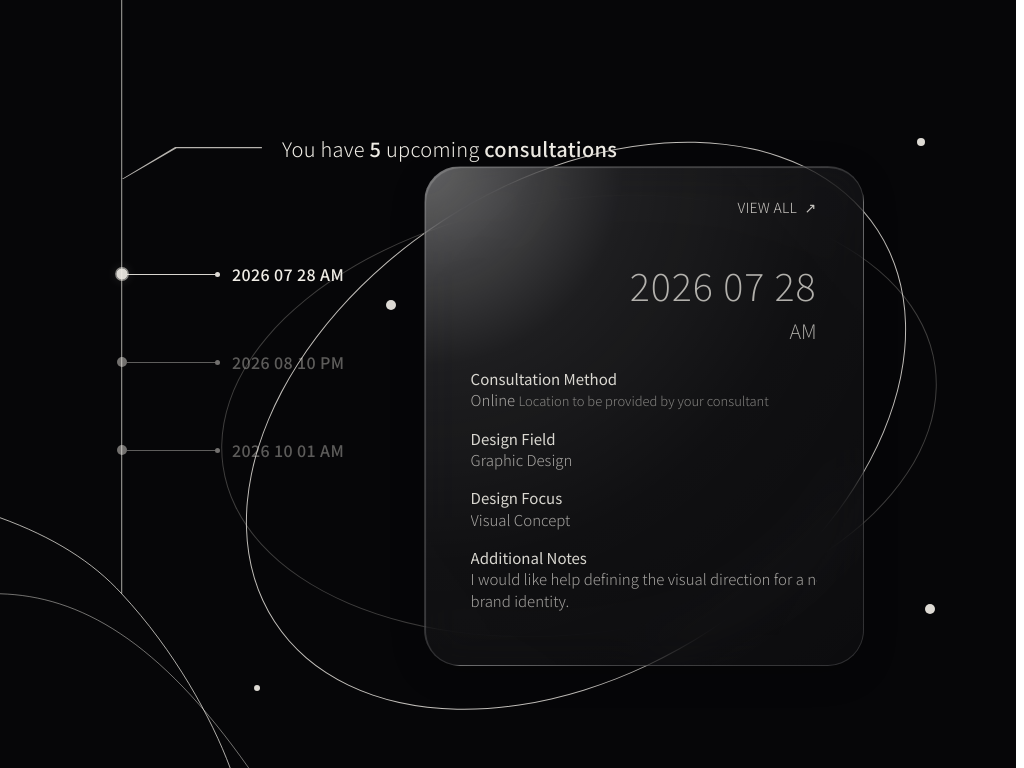
Test: AccountConsultations › toggles the complete consultation list without rendering notes
The width and height of the screenshot is (1024, 768).
Click the button "View all ↗": point(777, 208) [738, 197, 817, 218]
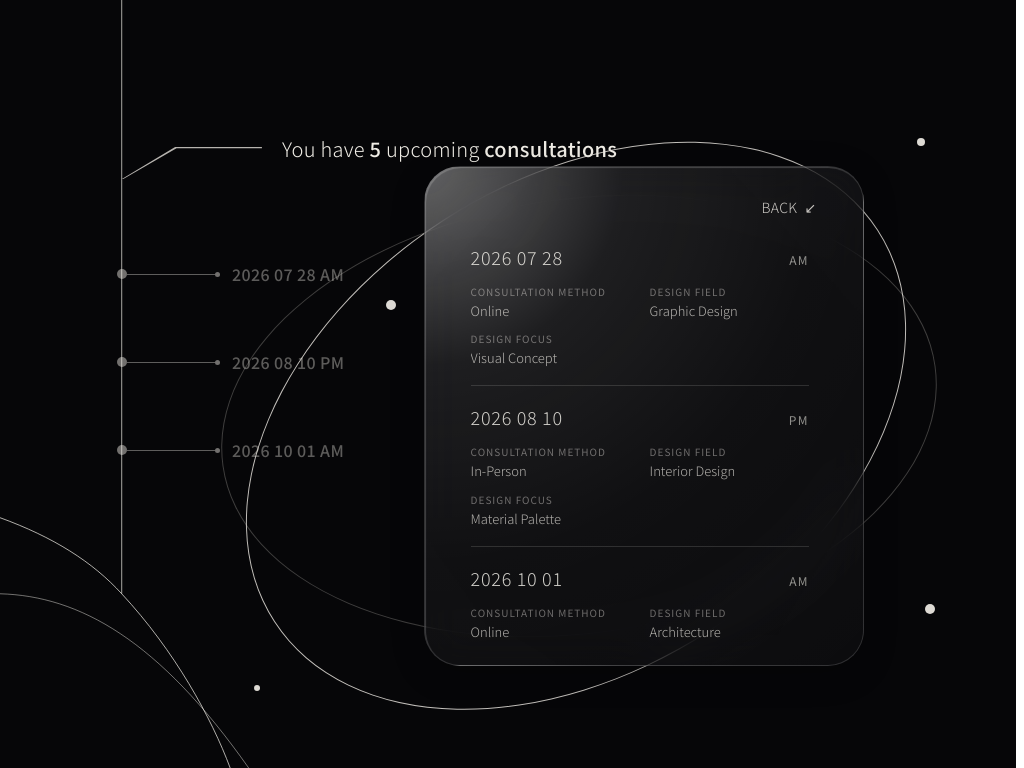
Result: the button "Back ↙" is shown
Result: the text with class "all-consultations" no longer shows "Notes"
Result: the text with class "all-consultations" no longer shows "help defining the visual direction"
Click the button "Back ↙": point(789, 208) [762, 197, 817, 218]
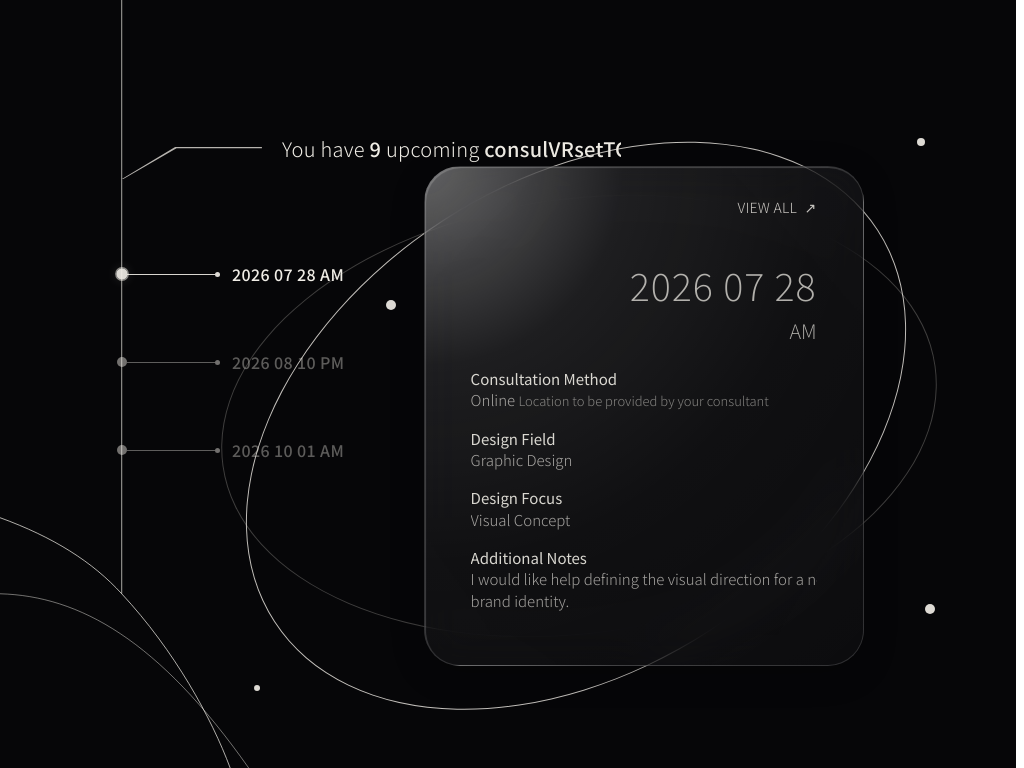
Expected: the button with class "date-node--active" reads "2026 07 28 AM", [122, 230, 542, 318]
Result: the button "View all ↗" is shown at [738, 197, 817, 218]
Result: the element with class "details-panel" shows "Notes" at [471, 547, 587, 568]
